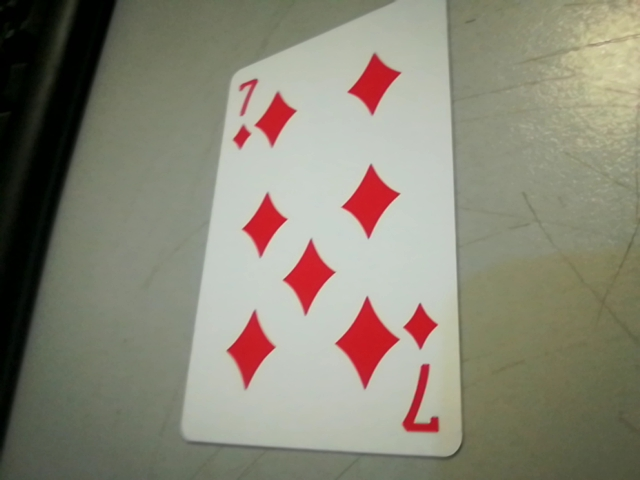fk 7: (396, 295, 451, 450)
